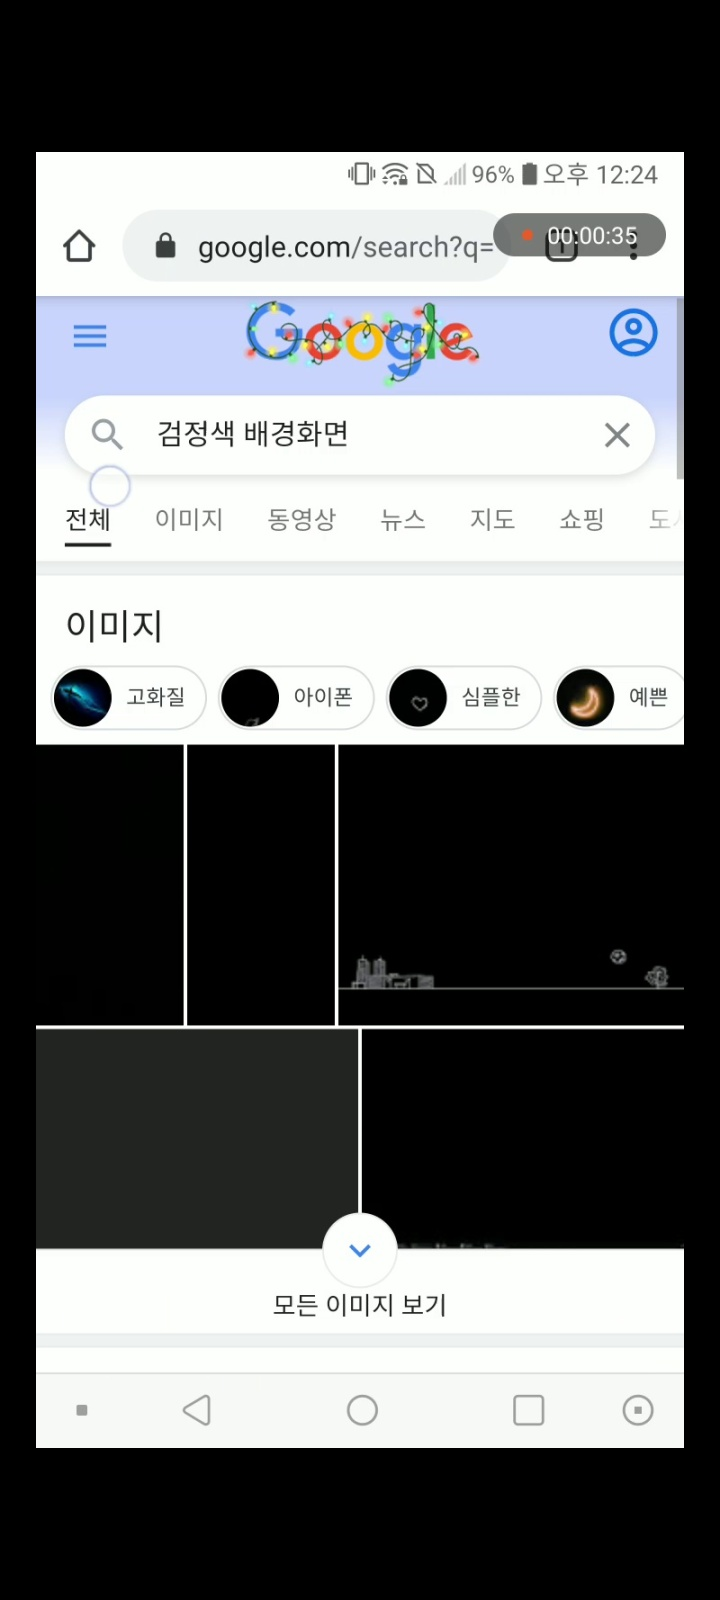Cursor: (89, 464, 134, 509)
